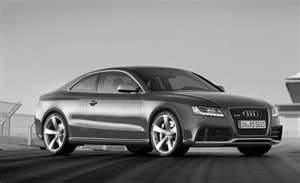car: (32, 65, 287, 161)
